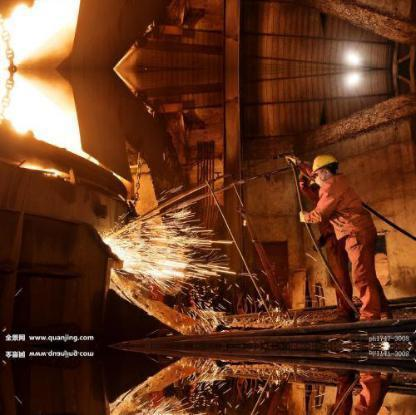helmet: (312, 153, 342, 177)
